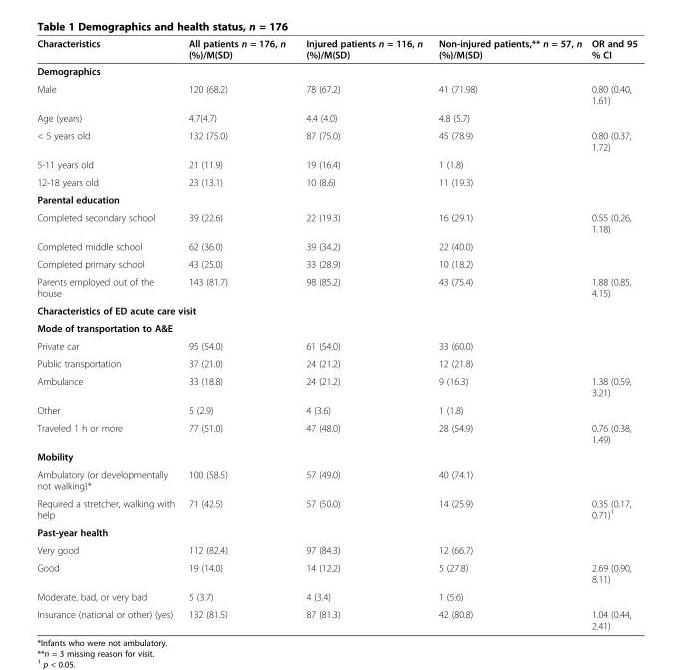table: (36, 37, 636, 630)
table column: (430, 37, 586, 630), (36, 37, 181, 630), (295, 37, 430, 630), (181, 37, 295, 630), (586, 37, 636, 630)
table column header: (36, 37, 636, 62)
table projected row header: (36, 190, 636, 208), (36, 301, 636, 319), (36, 447, 636, 465), (36, 62, 636, 79), (36, 319, 636, 336), (36, 523, 636, 540)
table row: (36, 79, 636, 108), (36, 126, 636, 155), (36, 208, 636, 237), (36, 272, 636, 301), (36, 372, 636, 401), (36, 418, 636, 447), (36, 465, 636, 494), (36, 494, 636, 523), (36, 558, 636, 587), (36, 37, 636, 62), (36, 605, 636, 630), (36, 108, 636, 126), (36, 155, 636, 173), (36, 190, 636, 208), (36, 254, 636, 272), (36, 301, 636, 319), (36, 336, 636, 354), (36, 354, 636, 372), (36, 447, 636, 465), (36, 540, 636, 558), (36, 587, 636, 605), (36, 62, 636, 79), (36, 173, 636, 190), (36, 237, 636, 254), (36, 319, 636, 336), (36, 401, 636, 418), (36, 523, 636, 540)
